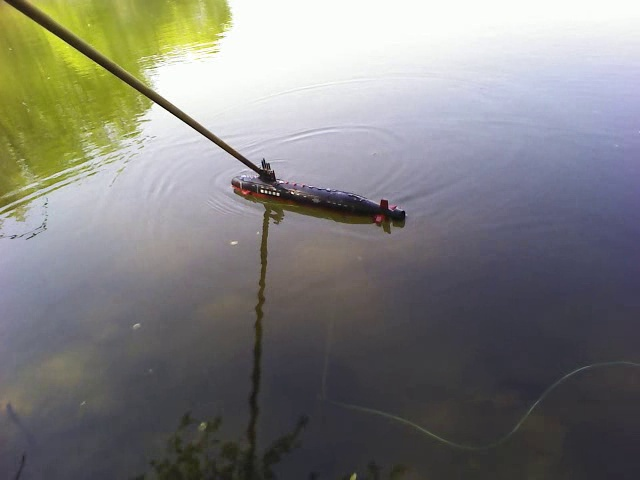submarine: (233, 161, 411, 228)
